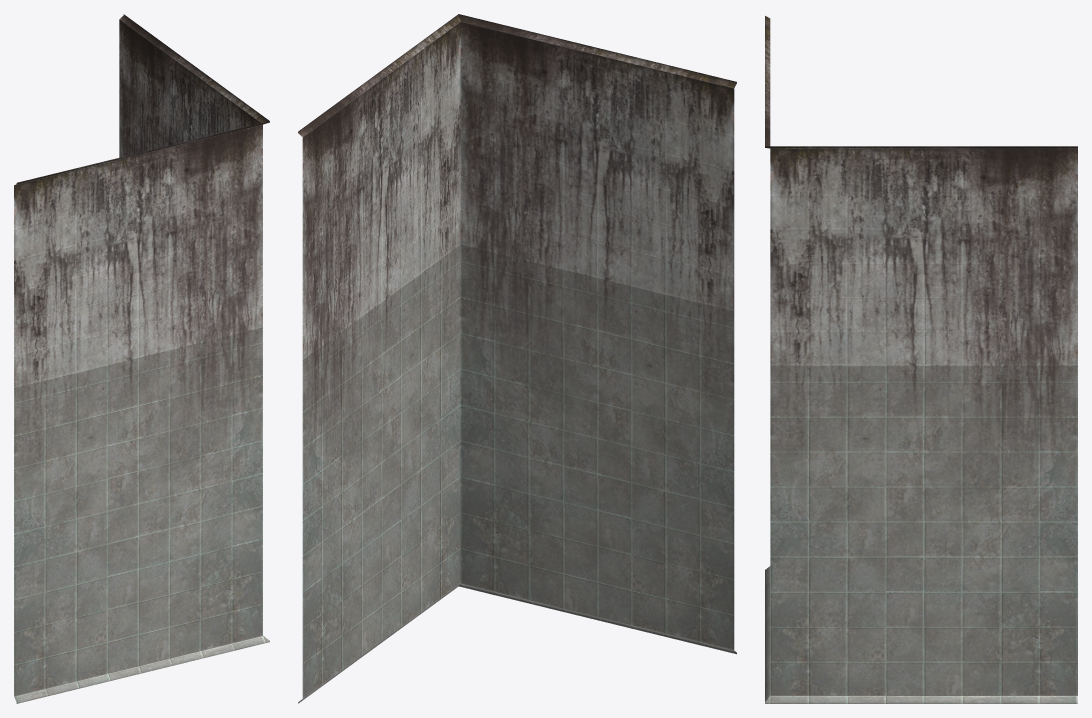
The model's file is bathroom_damaged_convex.dae.
The picture shows the model from 3 angles, left to right: view 1: azimuth 30°, elevation 25°; view 2: azimuth 150°, elevation 25°; view 3: azimuth 270°, elevation 25°; orthographic projection. The views are drawn at different scales.
Visible parts, largest first — view 1: polySurface11; view 2: polySurface11; view 3: polySurface11.
Boxes of the visible parts, x1,y1,x2,y2 form: polySurface11: [14, 14, 269, 703]; polySurface11: [298, 14, 736, 703]; polySurface11: [765, 16, 1077, 703].
Bounding box in the file's own units: 2.03 × 4 × 2.03.
